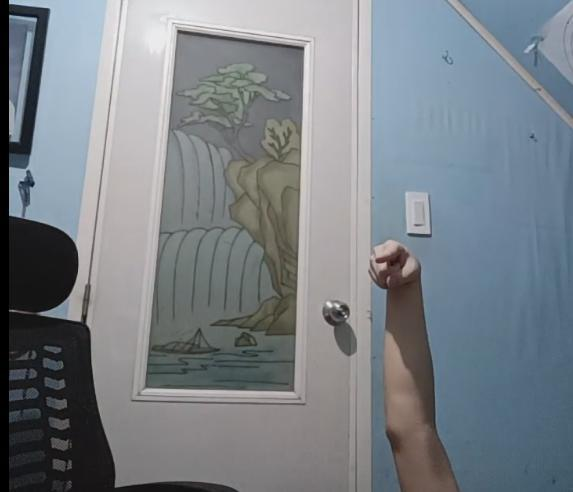z: (366, 239, 421, 288)
